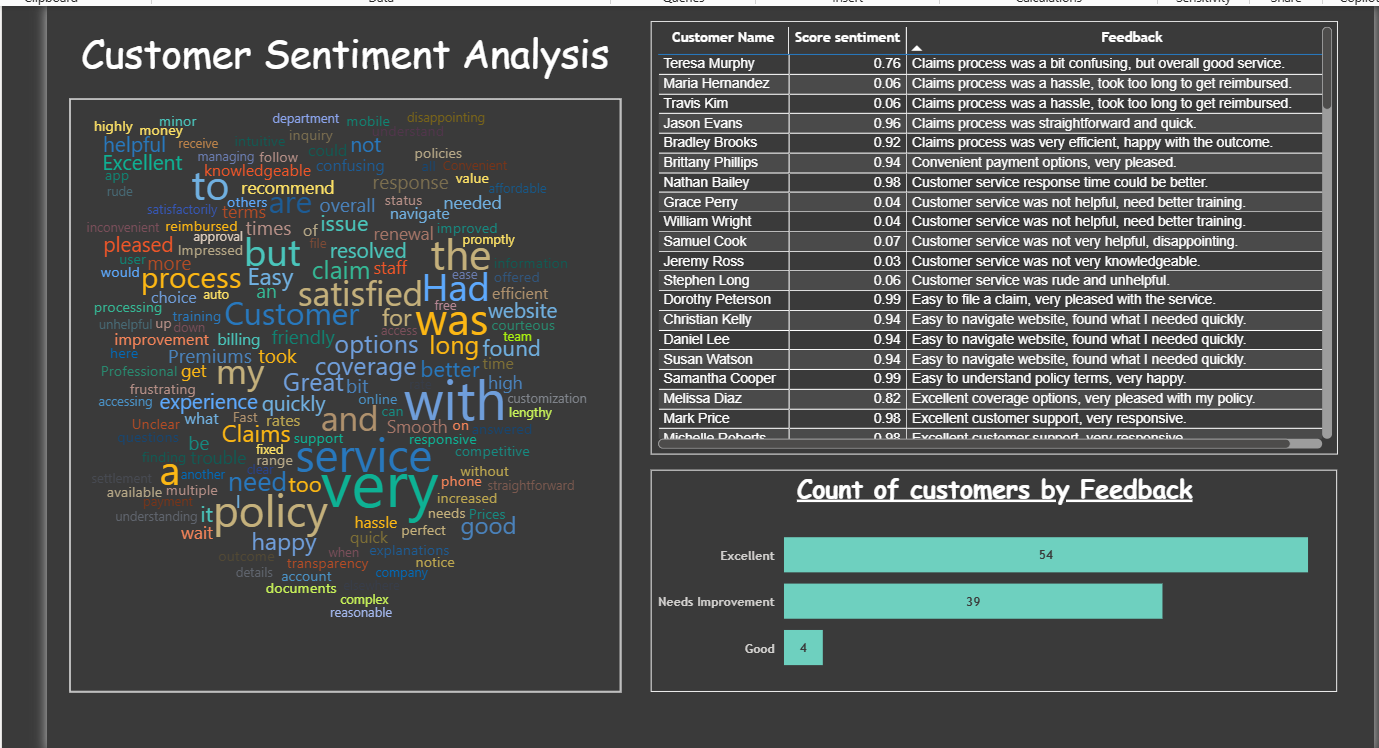

This screenshot's page, from the dashboard's own definition file:
{"tool":"powerbi","page":{"name":"Sentiment Analysis","canvas":[1280,720],"ordinal":1},"visuals":[{"type":"WordCloud1447959067750","fields":{"Category":["Sheet1.Feedback"],"Values":["Sheet1.Feedback"]},"box":[21.7,89.3,532,573.1],"z":0},{"type":"barChart","title":"Count of customers by Feedback","fields":{"Category":["Sheet1.Good/Improvements"],"Y":["Sheet1.Customer Name"]},"box":[582.7,447.6,662.3,214.7],"z":1000},{"type":"tableEx","fields":{"Values":["Sheet1.Customer Name","Sheet1.Score sentiment","Sheet1.Feedback"]},"box":[582.7,14.5,663.5,418.6],"z":2000},{"type":"textbox","box":[21.7,14.5,532,74.8],"z":3000}]}

Visuals, with their boxes on the page's 1280x720 design canvas (x1, y1, x2, y2). These are canvas units, not pixel positions in the 1379x748 screenshot, which may show the page scaled, cropped or inside an application window:
WordCloud1447959067750 - Sheet1.Feedback x Sheet1.Feedback: (22, 89, 554, 662)
"Count of customers by Feedback" barChart: (583, 448, 1245, 662)
tableEx - Sheet1.Customer Name x Sheet1.Score sentiment: (583, 14, 1246, 433)
textbox: (22, 14, 554, 89)
